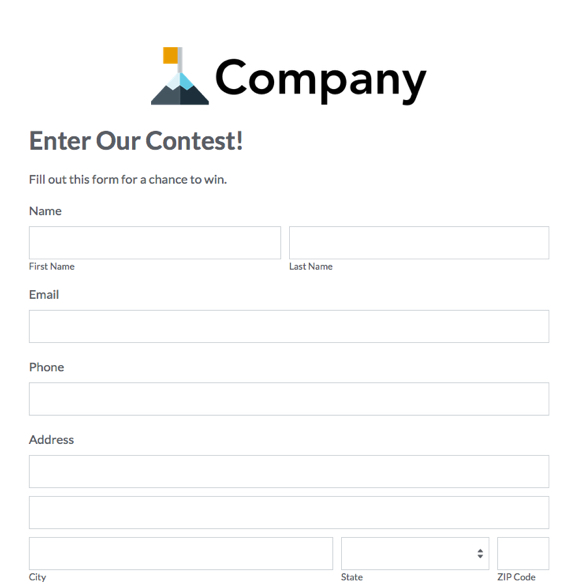dropdown: (338, 529, 491, 585)
textbox: (22, 532, 338, 583), (493, 528, 564, 585)
